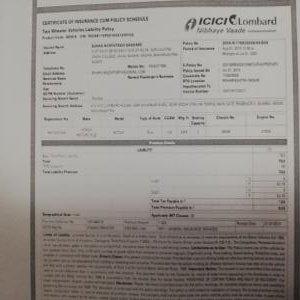image: (184, 14, 281, 36)
table: (40, 139, 292, 212), (42, 111, 289, 138)
text: (41, 14, 178, 100), (181, 37, 285, 99)
